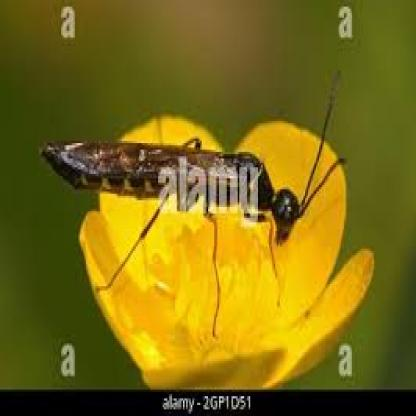sawfly: (39, 72, 352, 325)
